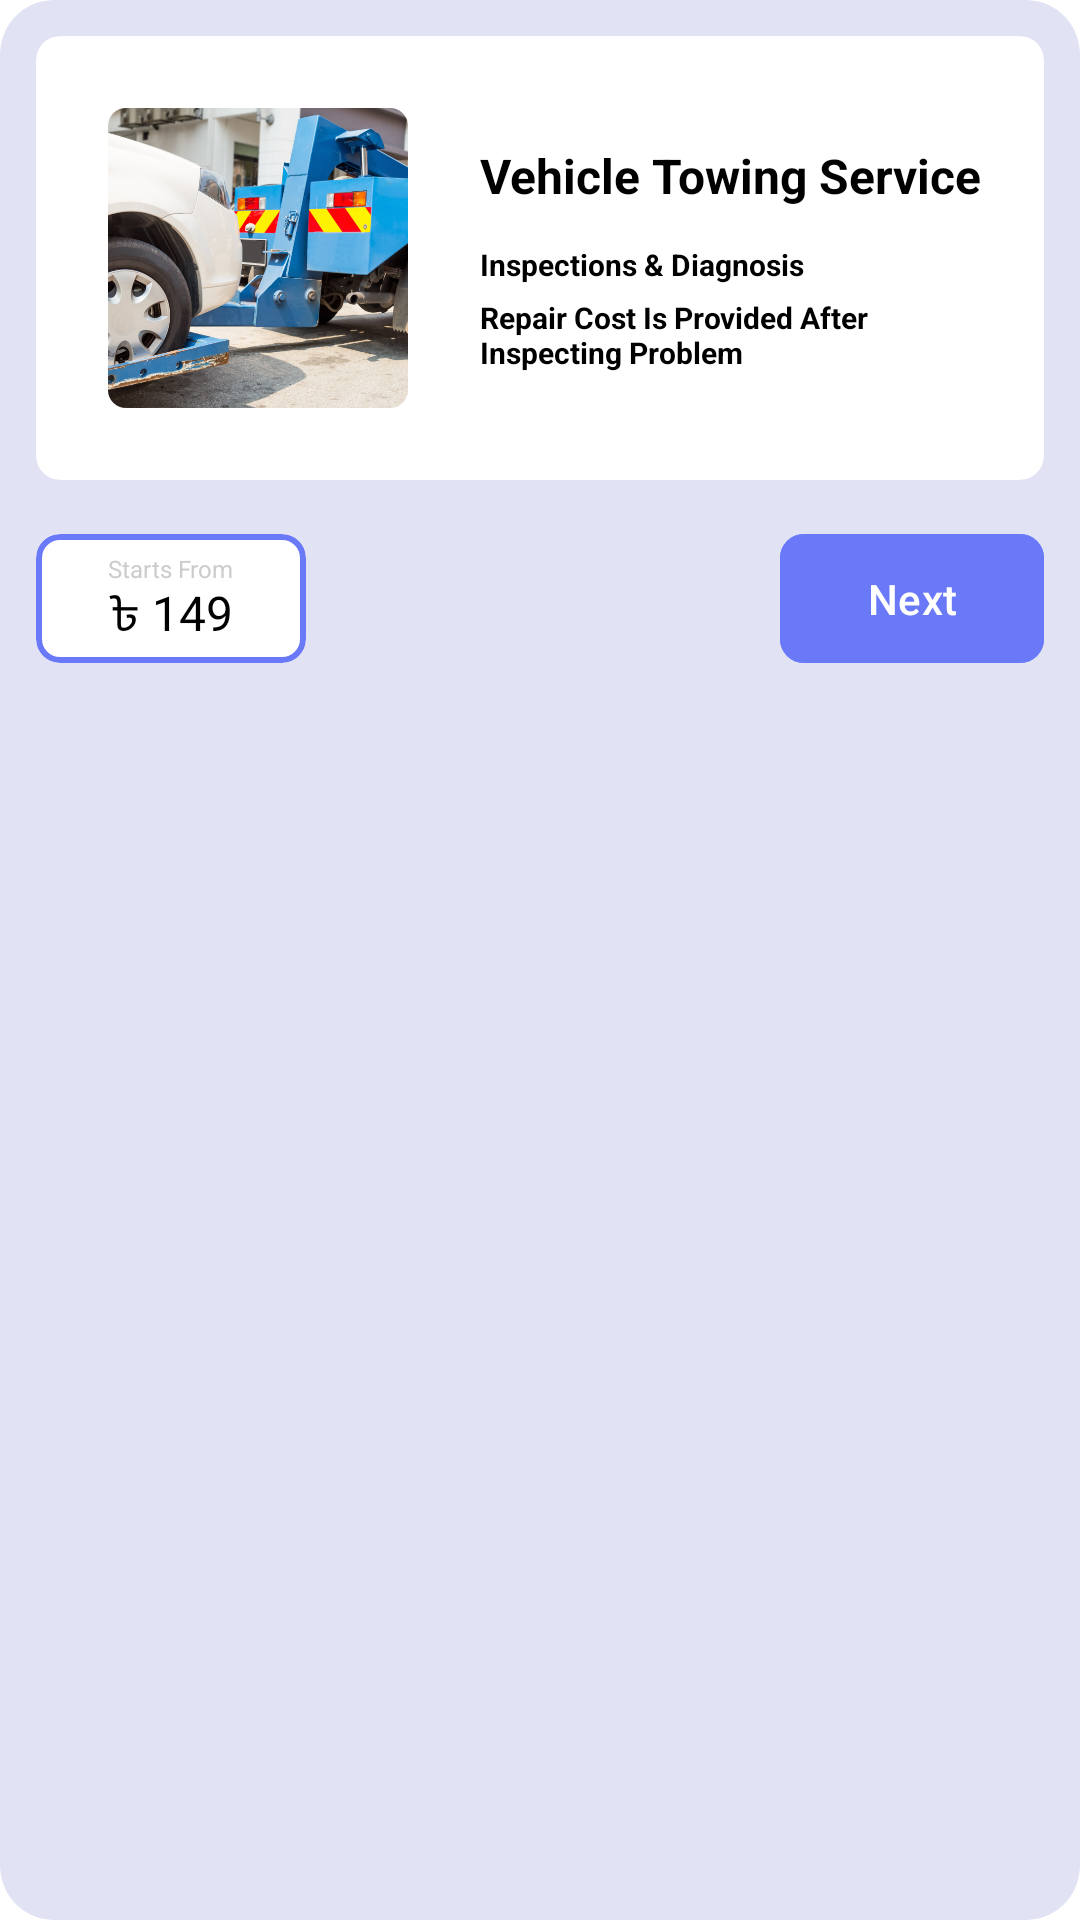

Named icons in this screenshot (1080px x 1920px) and their bounding boxes, (x1, y1, x2, y2):
car tow: (108, 108, 408, 408)
